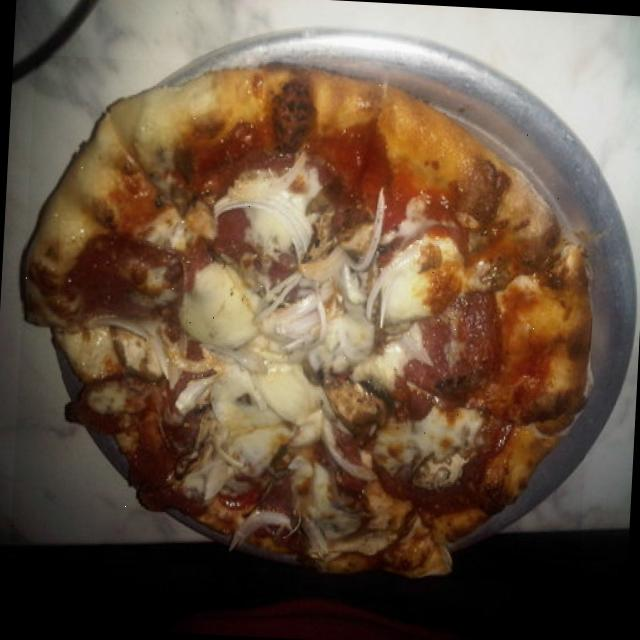pepperoni: (56, 359, 200, 506), (55, 220, 191, 336), (406, 272, 500, 390), (369, 458, 484, 529)
pizza: (24, 67, 591, 574)
